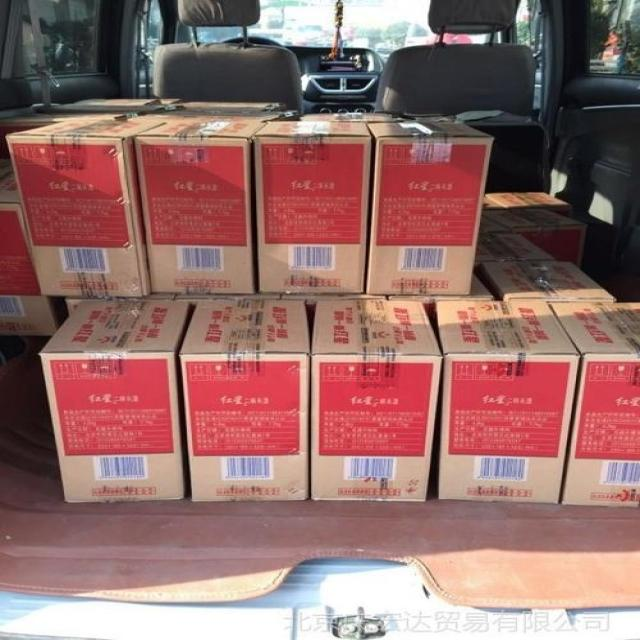box: (38, 298, 189, 503), (5, 112, 169, 296), (435, 299, 581, 503), (308, 298, 444, 501), (179, 298, 310, 502), (134, 115, 268, 294), (365, 118, 493, 296), (253, 118, 371, 294), (545, 297, 640, 507), (0, 154, 69, 338), (484, 207, 586, 268), (476, 261, 616, 301), (475, 229, 552, 264), (389, 274, 497, 298), (143, 102, 297, 118), (484, 191, 573, 218), (35, 98, 179, 114), (1, 112, 88, 135), (146, 291, 389, 297), (479, 210, 516, 236)
